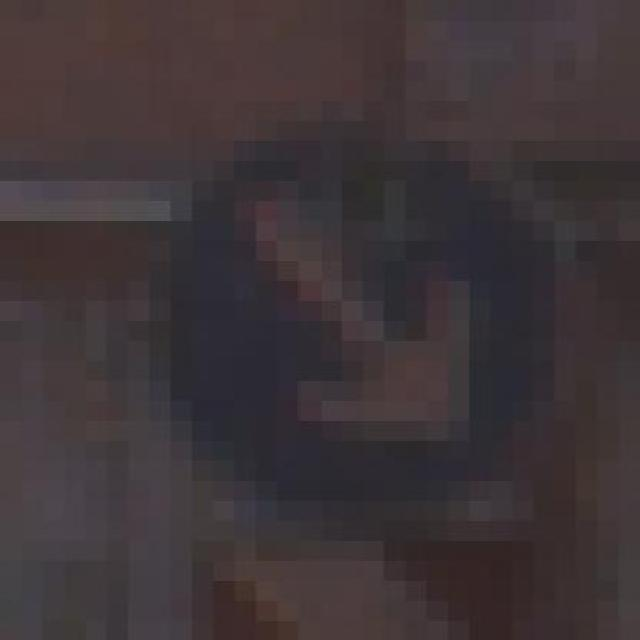Keep-Right: (86, 60, 576, 560)
